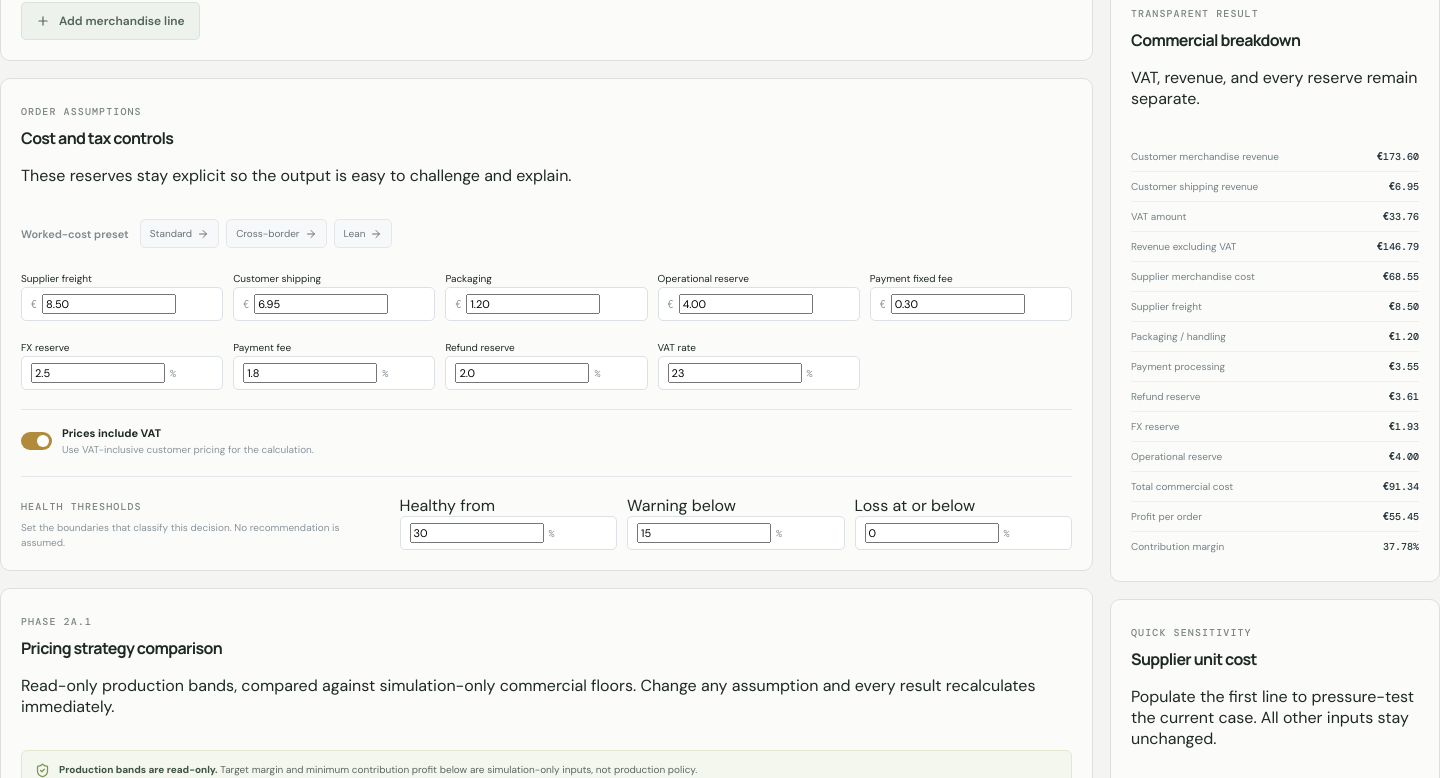
Test case: CommercialProfitSimulatorPage › supports editable VAT and health assumptions and reveals formulas
(page scrolled)
Replace the text in the field labelled "VAT rate" with "19" at [735, 373], box [668, 363, 802, 383]
(page scrolled)
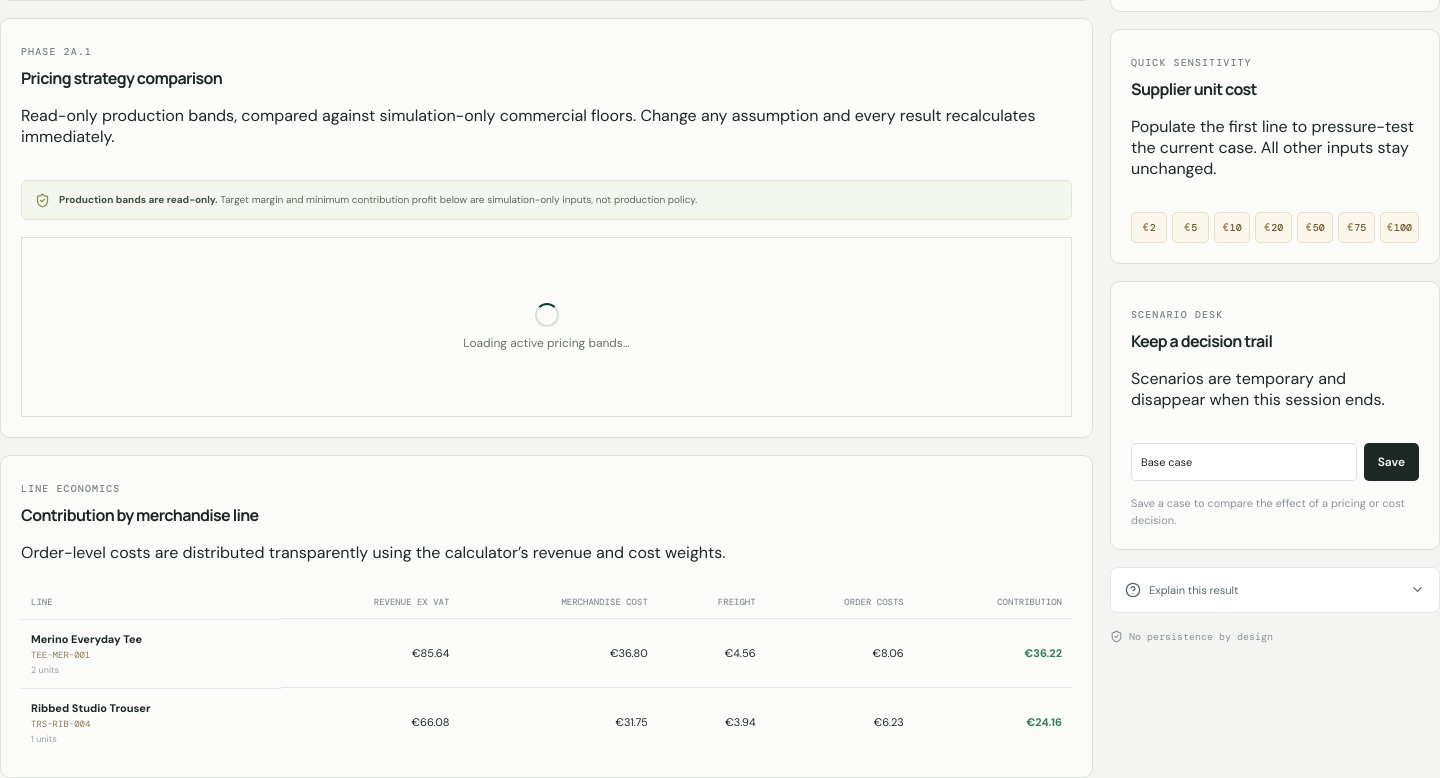
Click the button "Explain this result" at [1194, 590], box [1110, 567, 1439, 613]
(page scrolled)
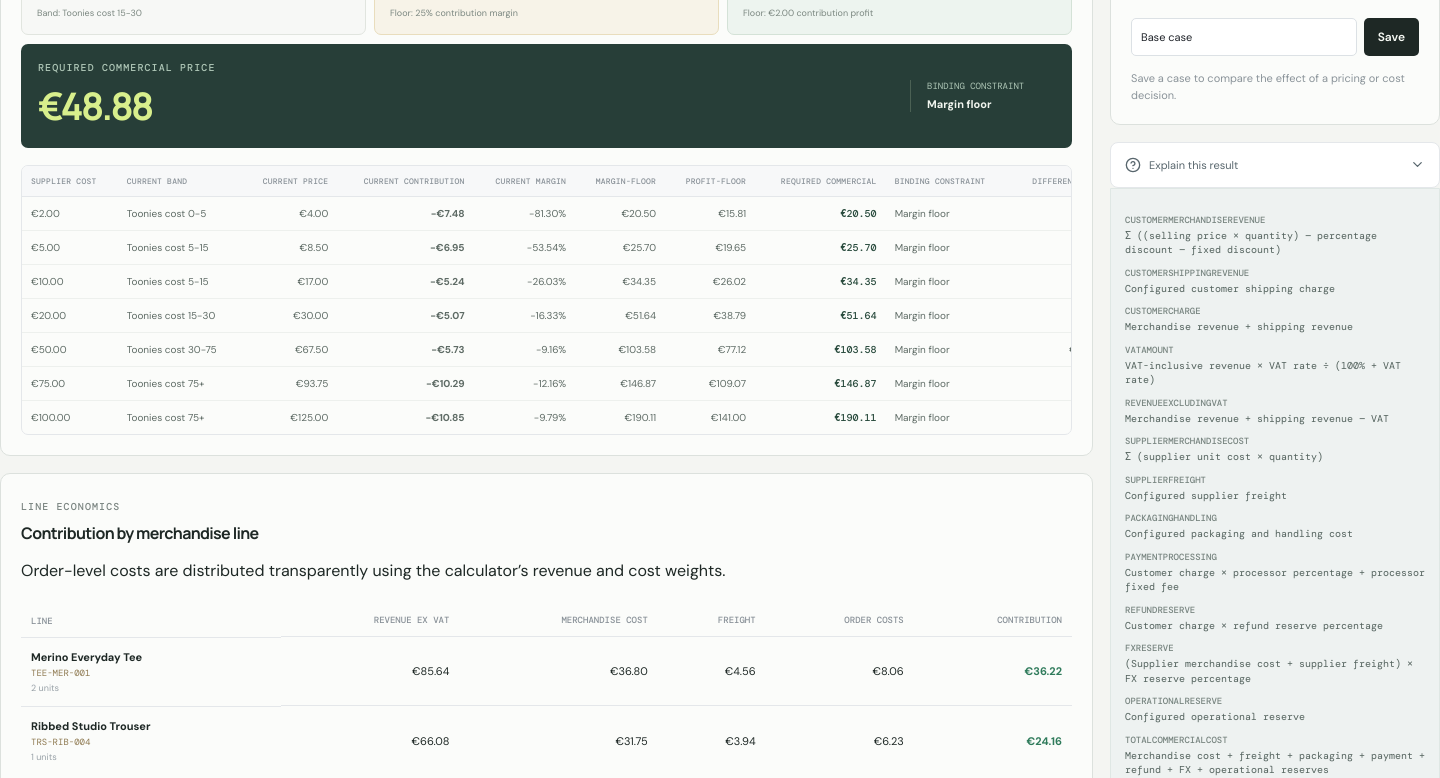
Expected: the text "VAT-inclusive revenue × VAT rate ÷ (100% + VAT rate)" is shown, [1125, 359, 1425, 388]
